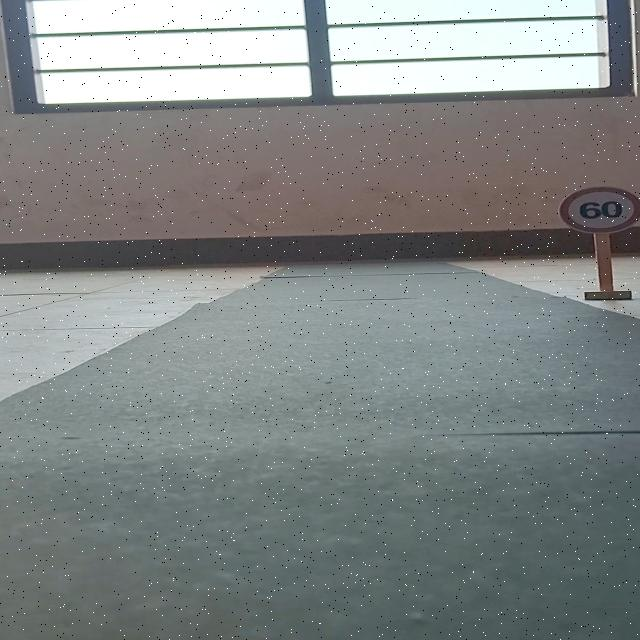Speed60: (556, 184, 640, 236)
